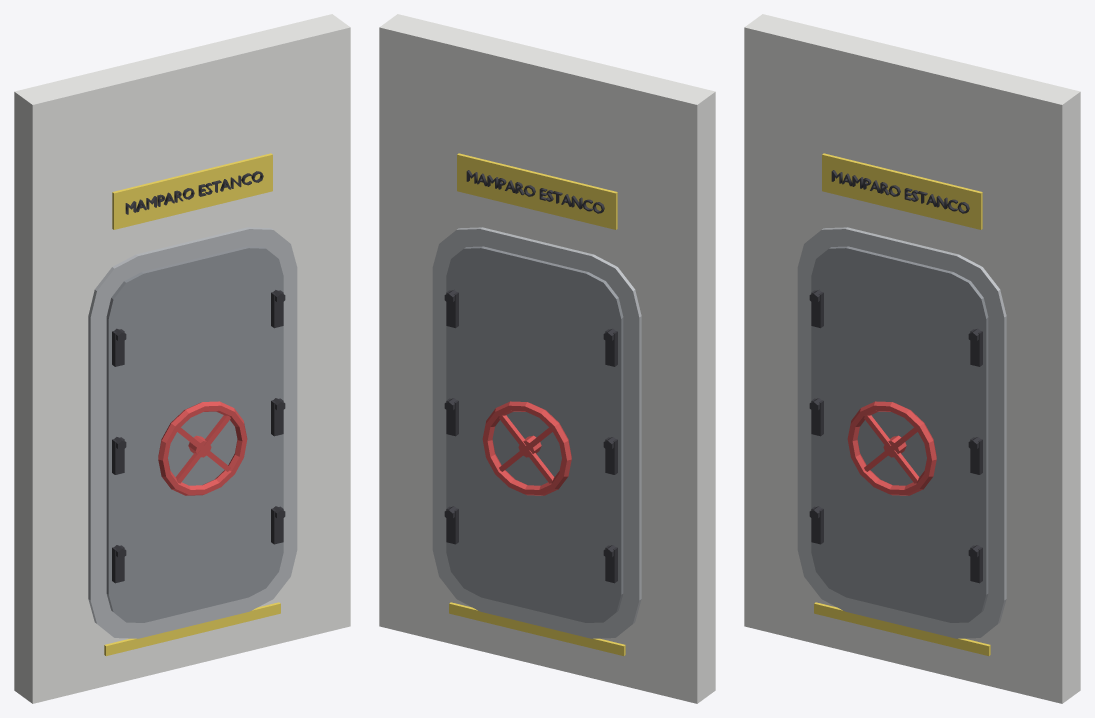
File: CR_PuertaEstanca.fbx
The picture shows the model from 3 angles, left to right: view 1: azimuth 30°, elevation 25°; view 2: azimuth 150°, elevation 25°; view 3: azimuth 330°, elevation 25°; orthographic projection.
Visible parts, largest first — view 1: CR_PuertaEstanca; view 2: CR_PuertaEstanca; view 3: CR_PuertaEstanca.
Part boxes in pixels (x1,y1,x2,y2): CR_PuertaEstanca: [14, 14, 350, 703]; CR_PuertaEstanca: [379, 14, 715, 703]; CR_PuertaEstanca: [744, 14, 1080, 703].
Bounding box in the file's own units: 2 × 3.6 × 0.492.
